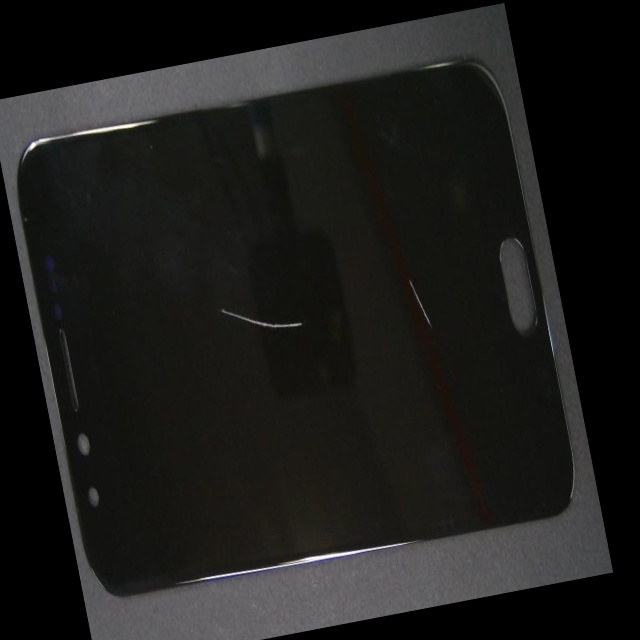scratch: (189, 173, 421, 438)
